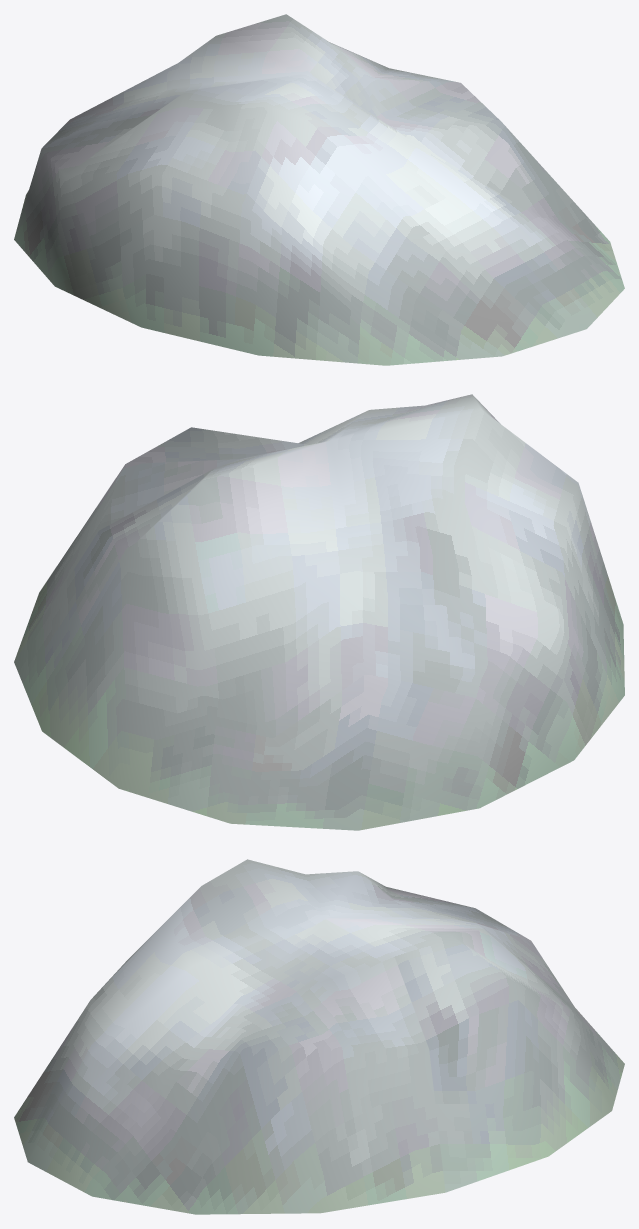
The model's file is TROLLHOLE02_STONEA09.fbx.
3 views of the same model, one above another, from view 1: azimuth 30°, elevation 25°; view 2: azimuth 150°, elevation 25°; view 3: azimuth 270°, elevation 25° (orthographic). The views are drawn at different scales.
Visible parts, largest first — view 1: TROLLHOLE02_STONEA09; view 2: TROLLHOLE02_STONEA09; view 3: TROLLHOLE02_STONEA09.
Boxes of the visible parts, <box> form: TROLLHOLE02_STONEA09: <box>14,14,624,365</box>; TROLLHOLE02_STONEA09: <box>14,394,624,830</box>; TROLLHOLE02_STONEA09: <box>14,859,624,1214</box>.
Size of the model in its own units: 11062 by 4514 by 12615.
Materials: 1 (1 with a texture image).
